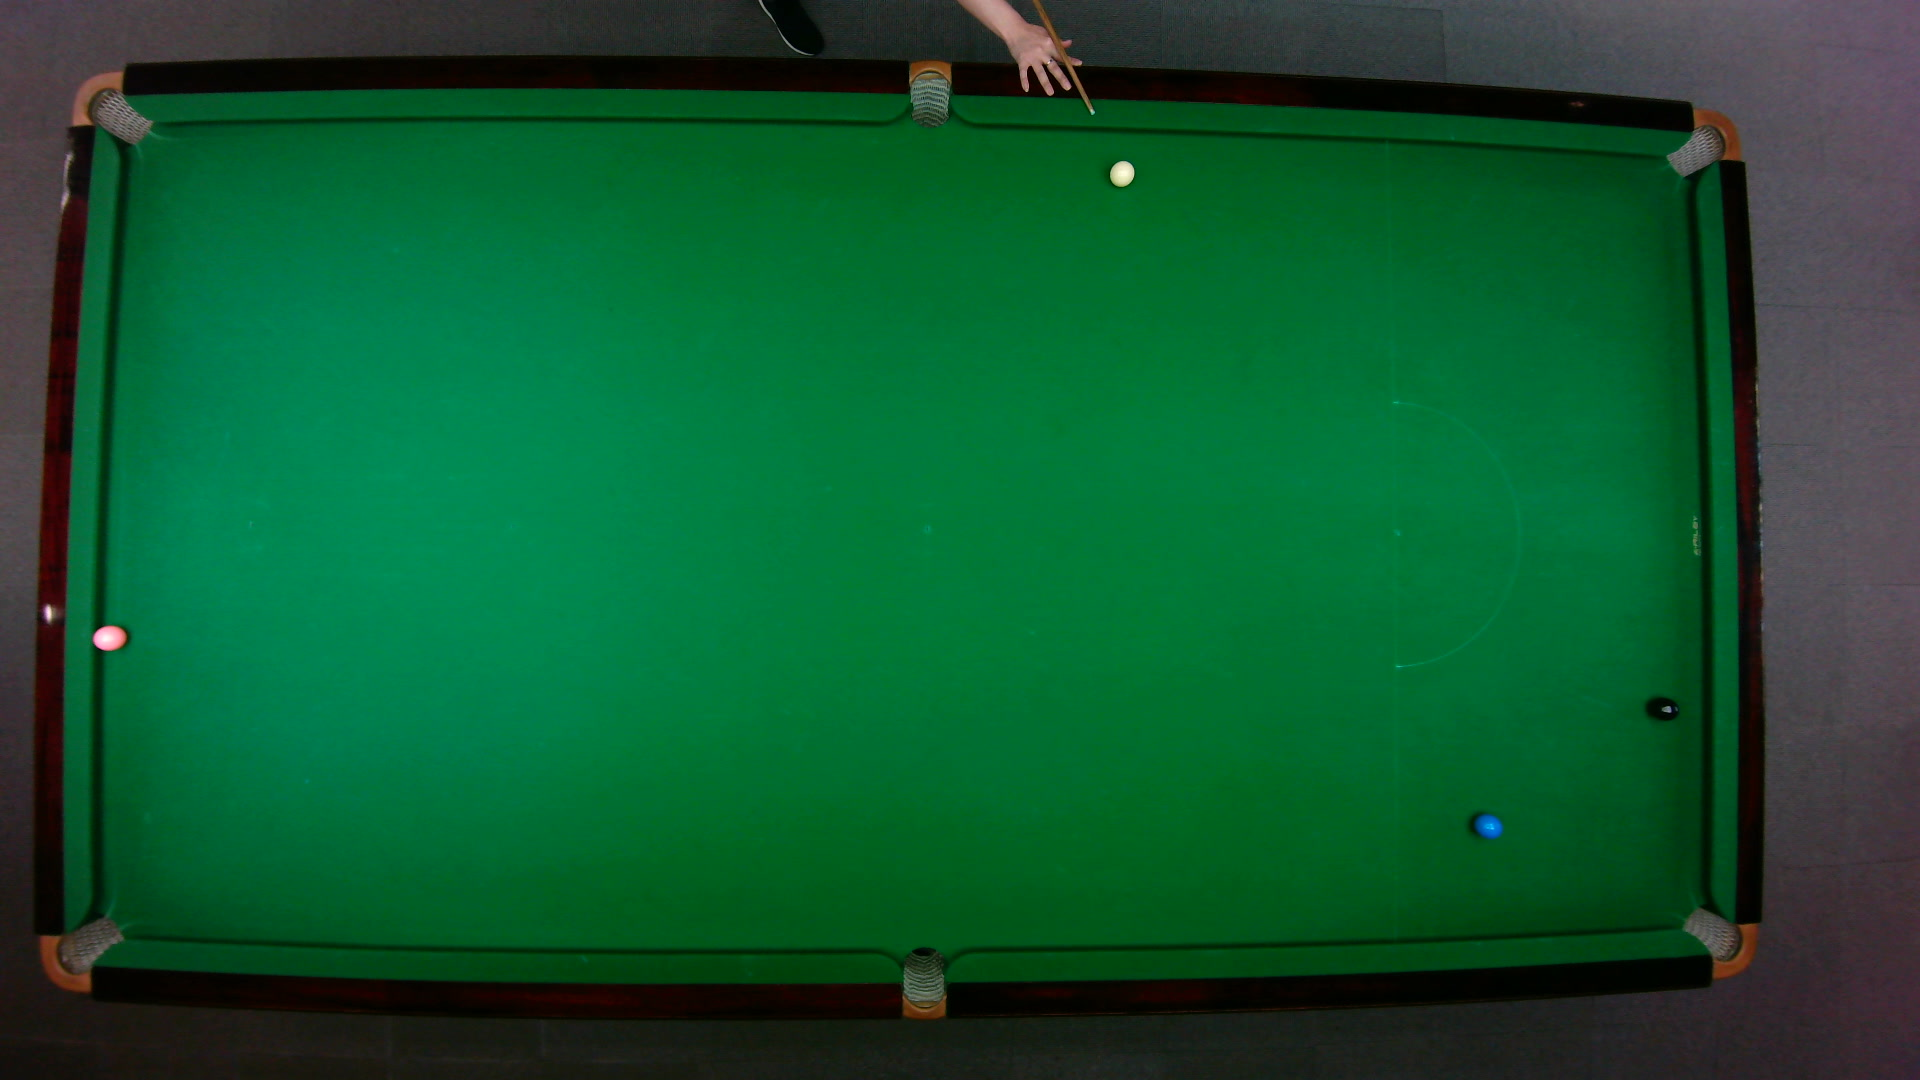bag: (37, 914, 125, 993), (67, 69, 152, 145), (1677, 905, 1756, 978), (1663, 107, 1741, 178), (901, 944, 944, 1021), (909, 57, 949, 128)
black: (1650, 695, 1679, 720)
blue: (1472, 811, 1503, 839)
cue: (1033, 0, 1097, 117)
pink: (88, 622, 128, 651)
white: (1106, 158, 1135, 189)
zone: (1390, 400, 1520, 669)
